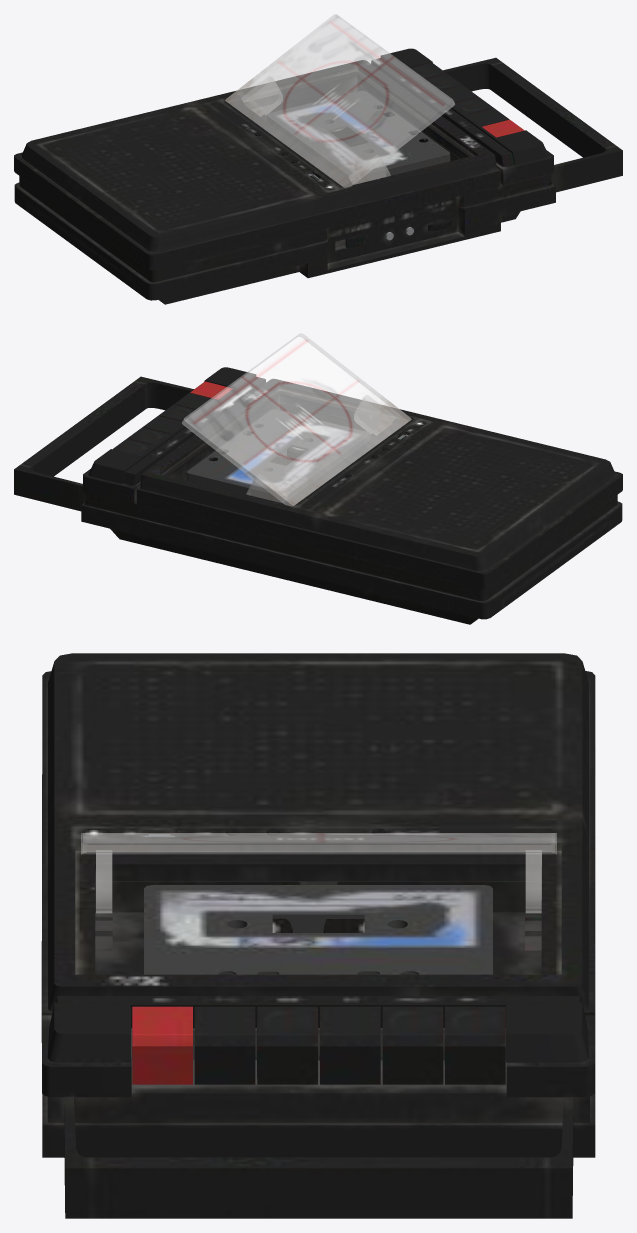
File: item_tape_recorder.glb
3 renders of one model, top to bottom at view 1: azimuth 30°, elevation 25°; view 2: azimuth 150°, elevation 25°; view 3: azimuth 270°, elevation 25°, orthographic. The views are drawn at different scales.
Parts seen in each view (by area): view 1: tape_recorder; view 2: tape_recorder; view 3: tape_recorder.
Boxes of the visible parts, left/top/right/bottom form: tape_recorder: left=14, top=14, right=622, bottom=304; tape_recorder: left=14, top=333, right=622, bottom=624; tape_recorder: left=41, top=653, right=595, bottom=1218.
Bounding box in the file's own units: 0.3958 × 0.1066 × 0.1982.
Materials: 3 (3 with a texture image).
